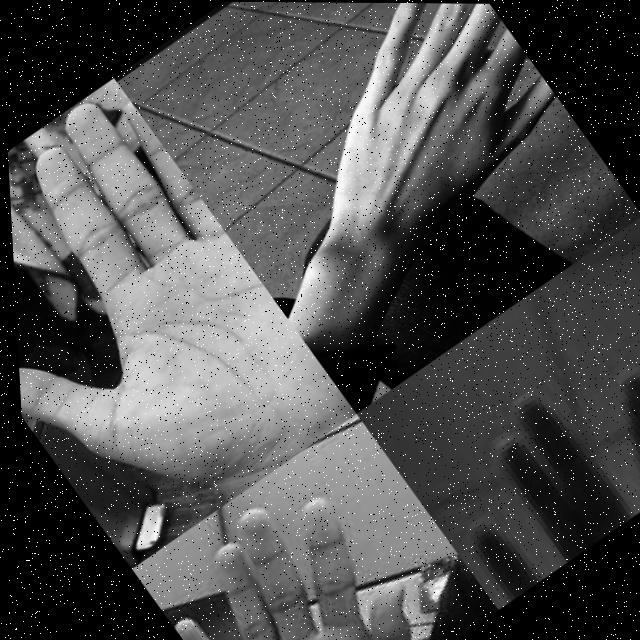hand: (3, 76, 357, 569), (190, 1, 592, 306), (399, 311, 640, 605), (129, 458, 443, 640)
